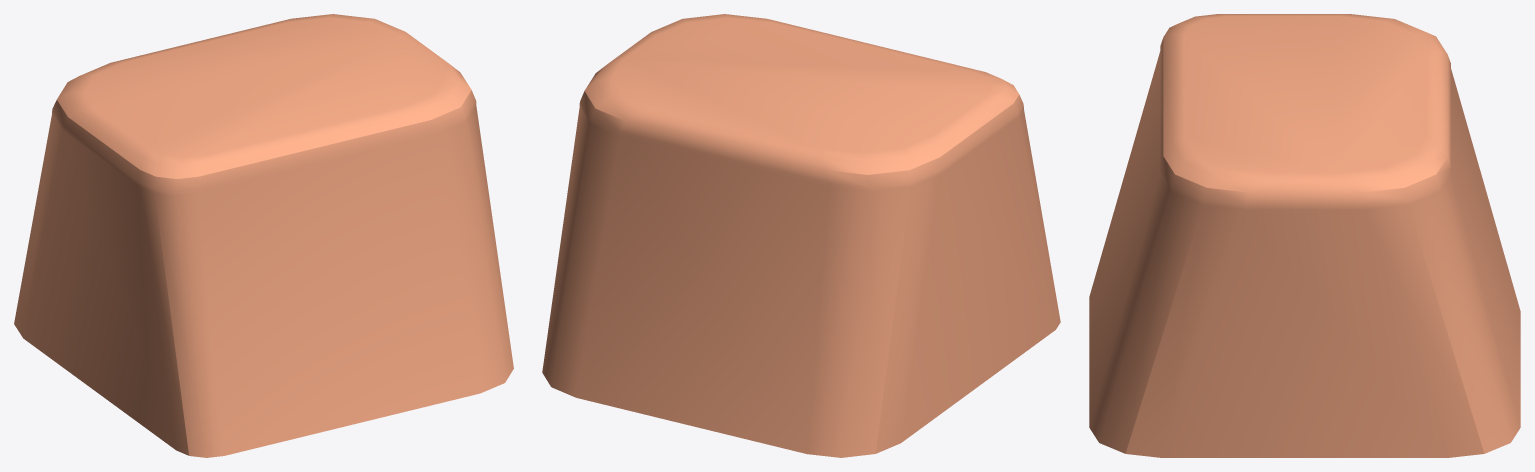
File: HillRock008.fbx
3 views of the same model, side by side, from view 1: azimuth 30°, elevation 25°; view 2: azimuth 150°, elevation 25°; view 3: azimuth 270°, elevation 25° (orthographic). The views are drawn at different scales.
Parts seen in each view (by area): view 1: HillRock008; view 2: HillRock008; view 3: HillRock008.
Boxes of the visible parts, x1,y1,x2,y2 form: HillRock008: (14, 14, 513, 457); HillRock008: (542, 14, 1060, 457); HillRock008: (1089, 14, 1520, 457).
Bounding box in the file's own units: 583 × 421 × 599.
